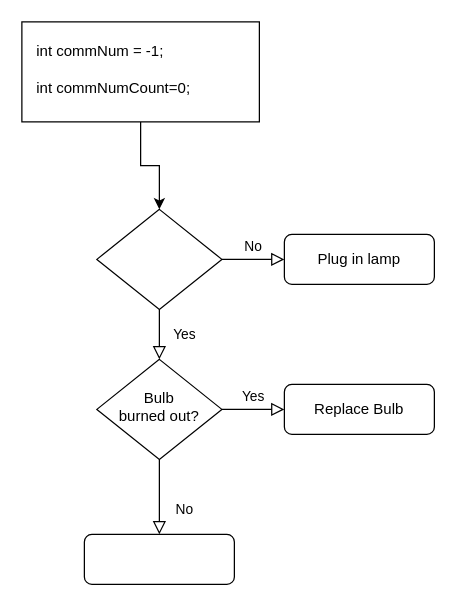
Some shapes in this 456 by 606 pixel diagram are drawn without their labels. The shapes that lost their labels are listed below. From the top down, each one's centre as x and y in pixels, then its label:
point 159,258: Lamp plugged in?
point 158,558: Repair Lamp
